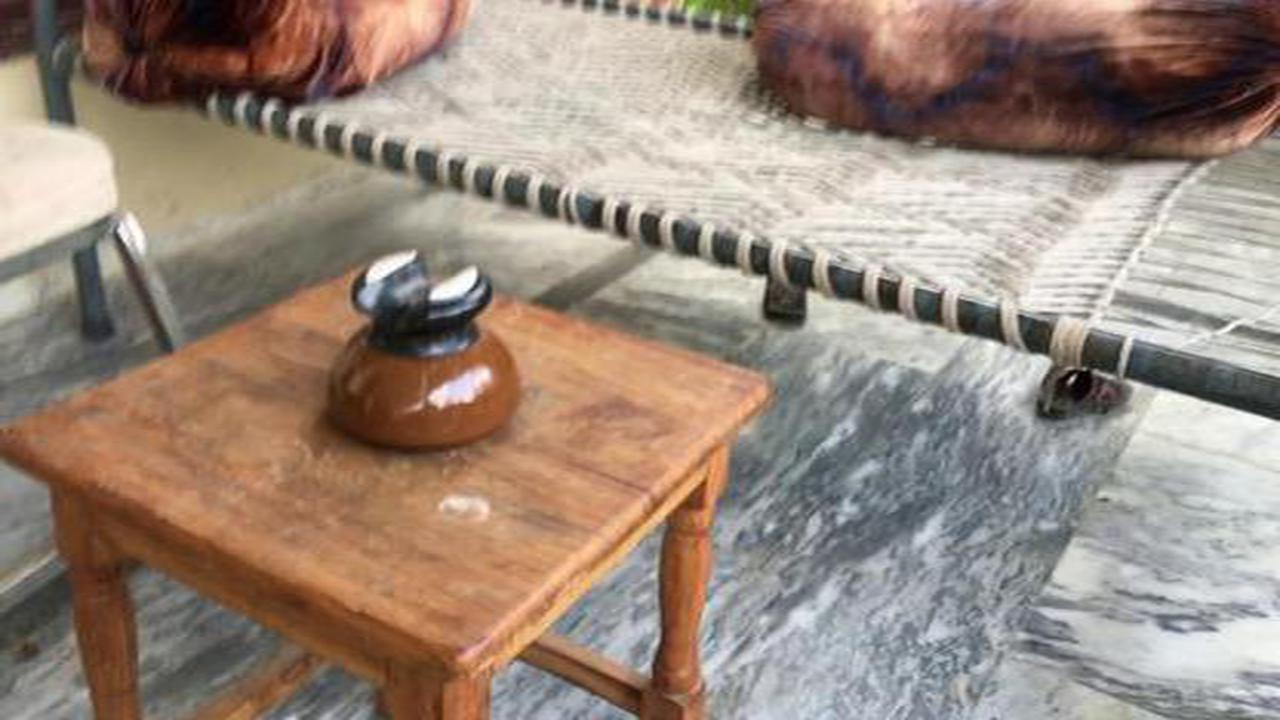insulator_pin: (299, 237, 548, 470)
